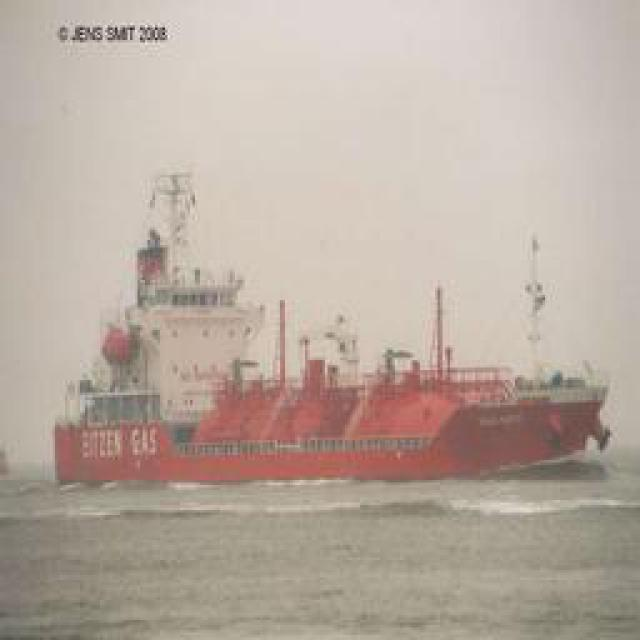Ship: (40, 295, 610, 495)
